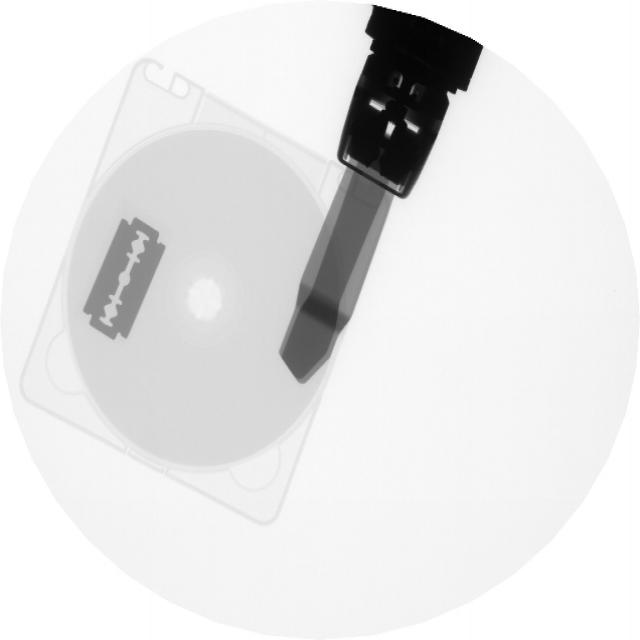BLADE: (81, 206, 177, 348)
